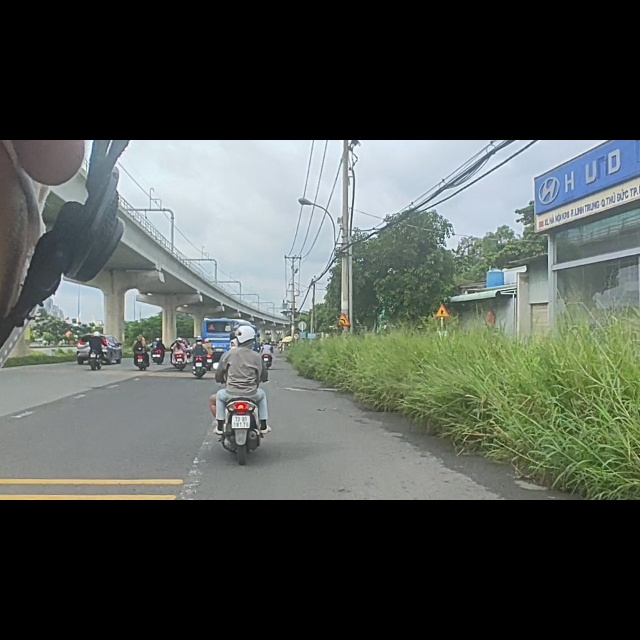bien_cam: (433, 288, 452, 316), (337, 307, 353, 332), (293, 341, 300, 354)
